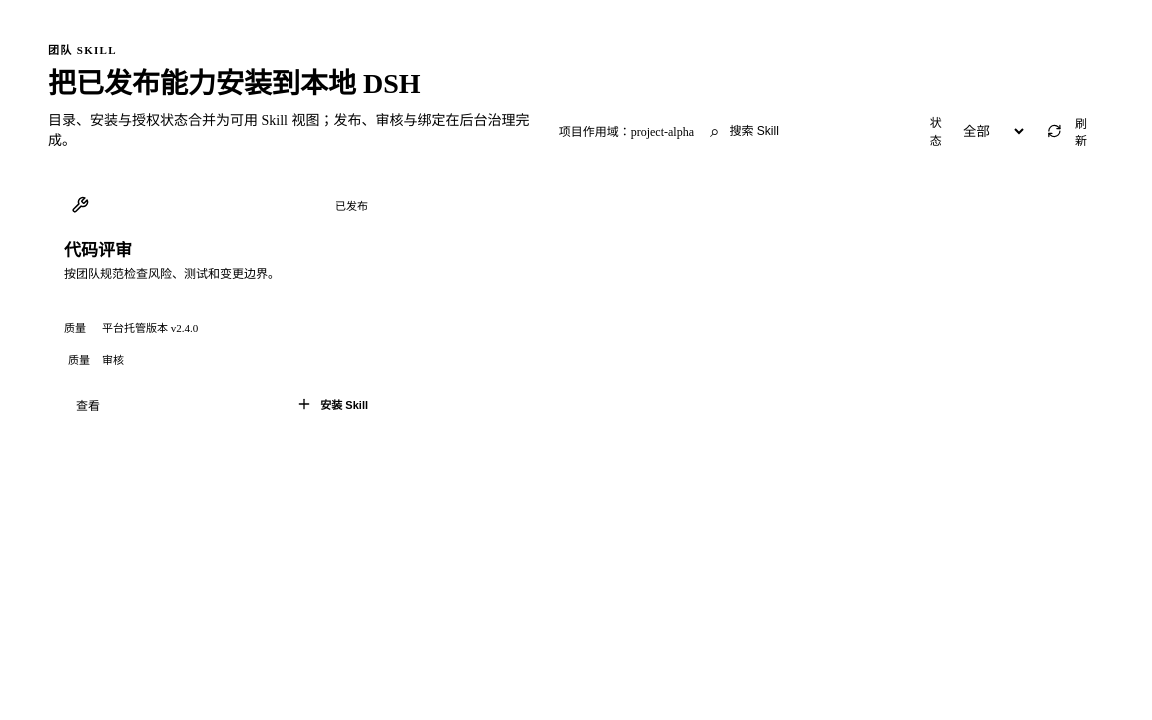
it: §11.14 安装阶段证据（视图） › 请求本身失败时不产生阶段证据，不得伪造阶段
The image size is (1152, 720).
expect the heading "代码评审" is shown: met, box left=64, top=241, right=132, bottom=260
Click the button "安装 Skill": (332,404) left=288, top=388, right=376, bottom=420
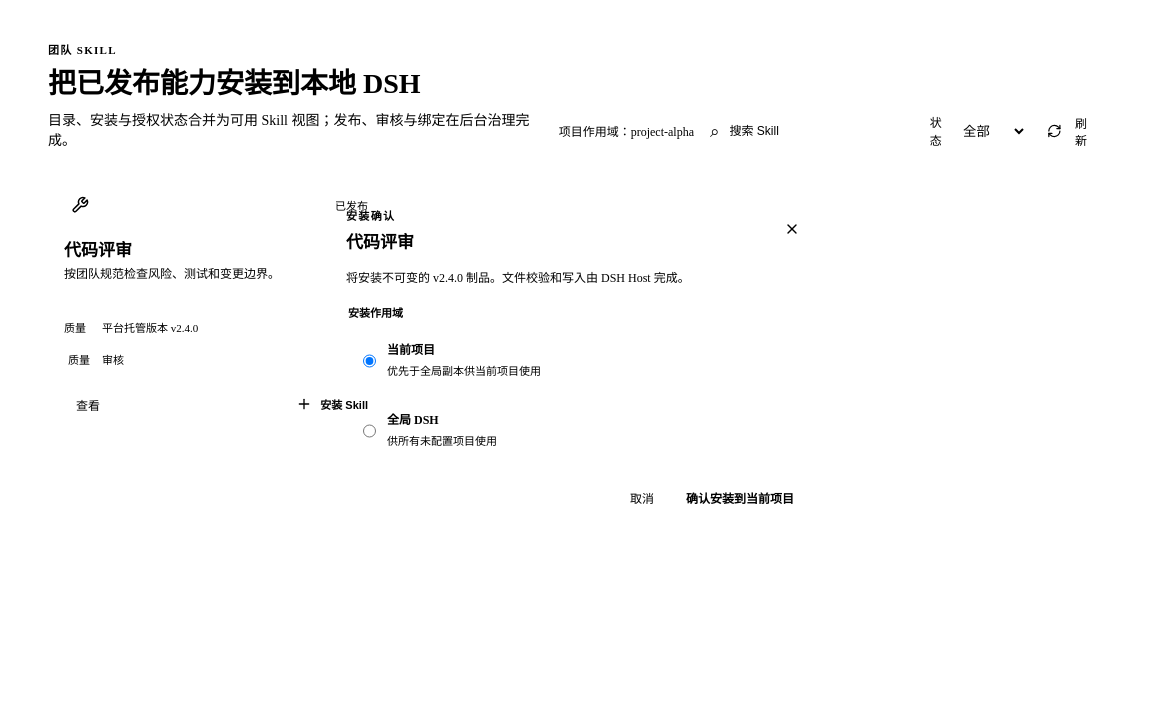
Click the button "确认安装到当前项目": (740,497) left=674, top=480, right=806, bottom=514
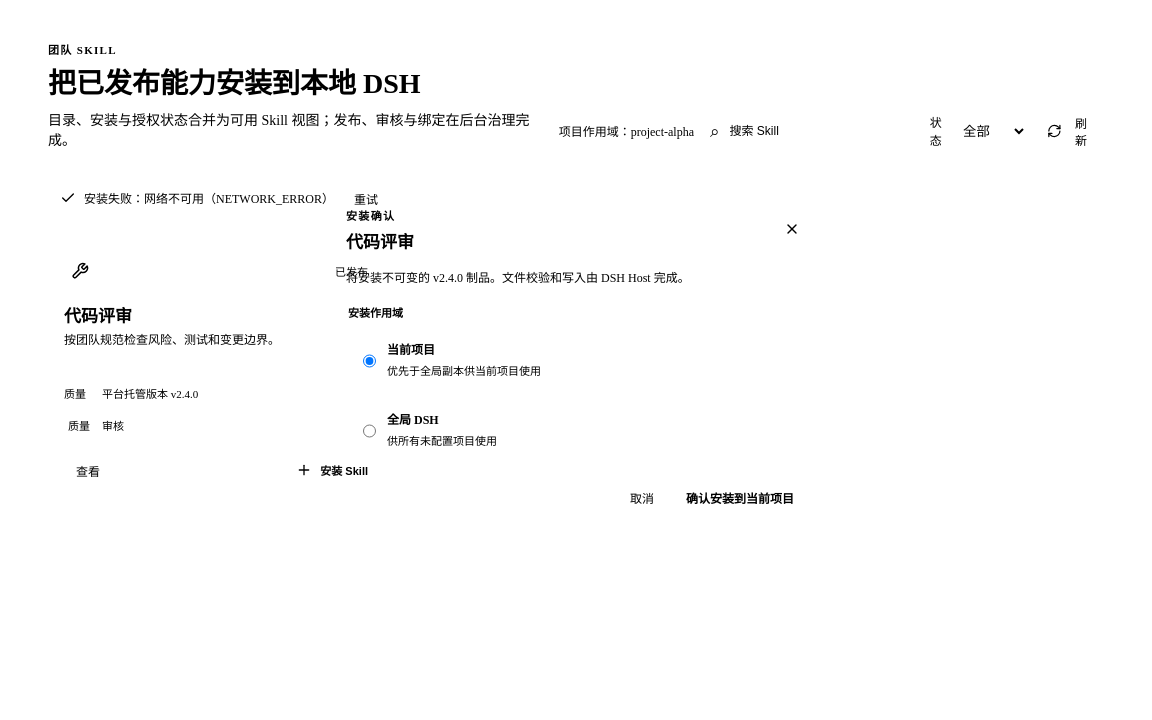
expect the text "安装失败：网络不可用（NETWORK_ERROR）" is shown: met, box left=84, top=189, right=334, bottom=207
